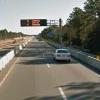Car: (49, 40, 75, 63)
